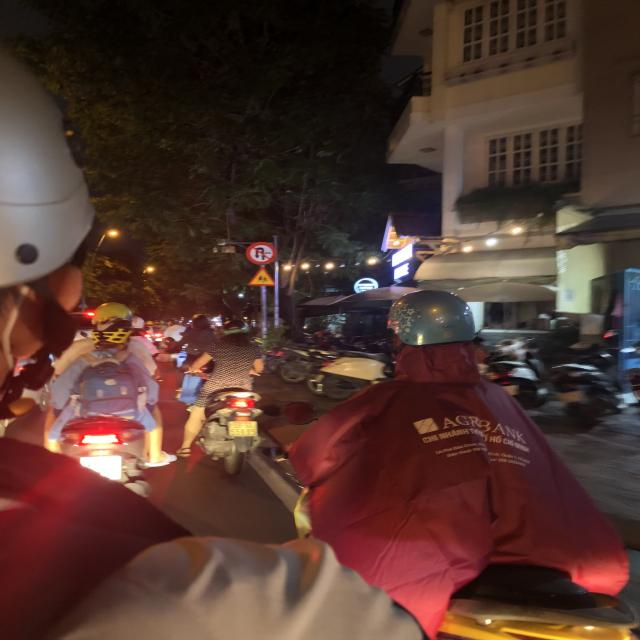Bien bao cam quay dau xe: (244, 240, 280, 266)
Bien bao tre em: (245, 265, 278, 288)
